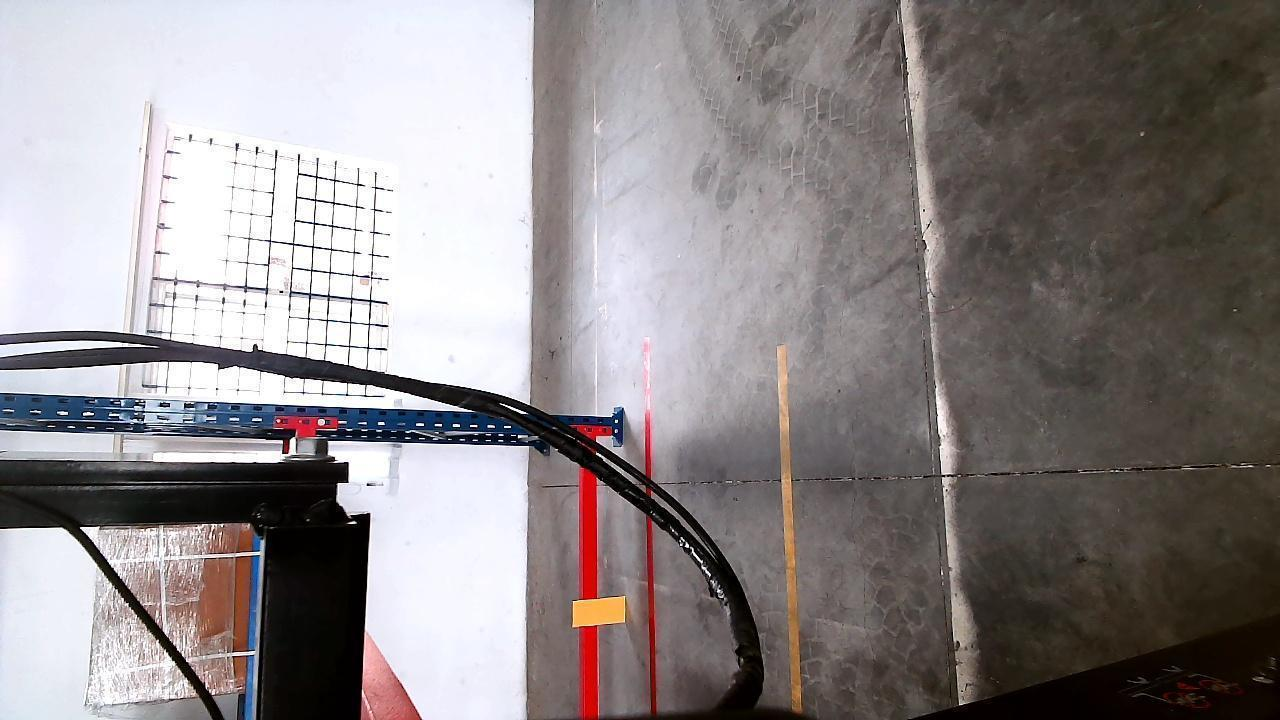red_line: (636, 368, 663, 717)
yellow_line: (778, 348, 803, 711)
